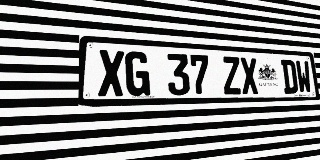3: (167, 53, 190, 95)
7: (189, 54, 211, 95)
D: (281, 59, 298, 94)
G: (125, 51, 150, 96)
W: (295, 60, 312, 93)
X: (98, 50, 125, 97), (240, 57, 259, 94)
Z: (221, 56, 242, 95)
